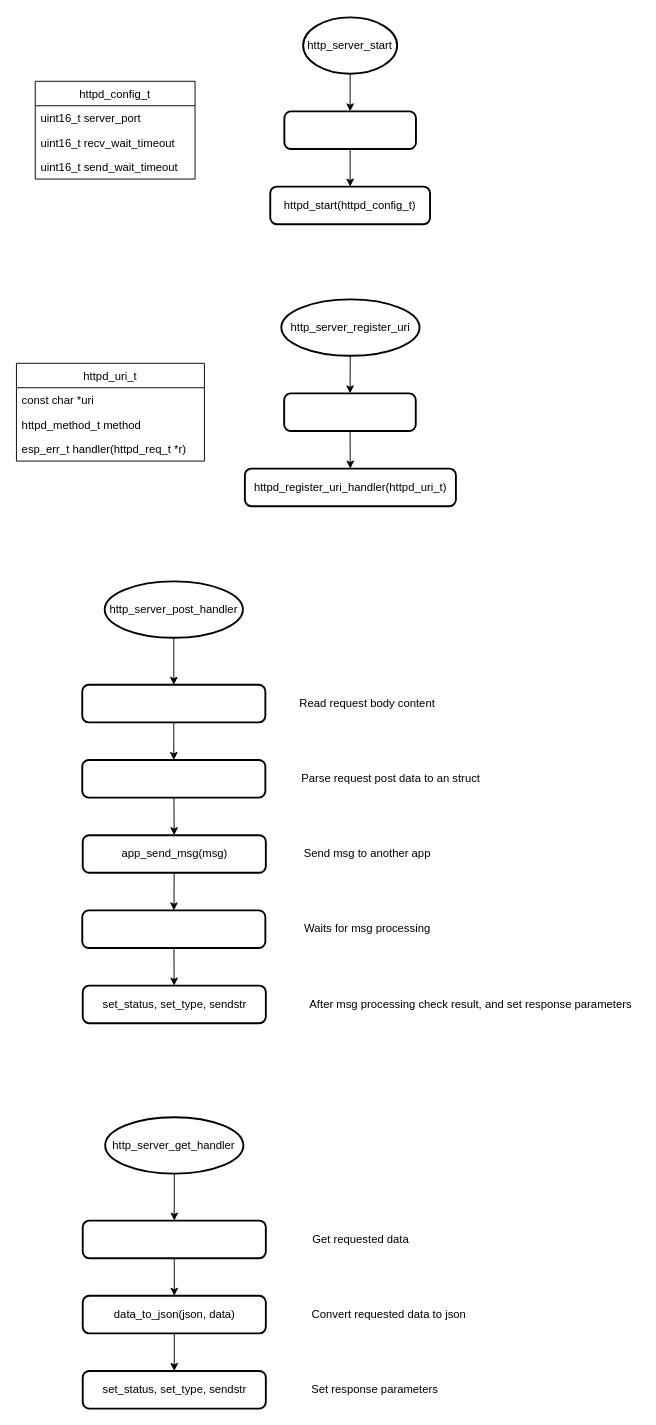
The diagram is 656 pixels wide and 1425 high, and some of its shapes have lost their labels. Here are the shapes that lost their labels. From the top down, the centre of each, then its label:
point (349, 129): init httpd_config_t
point (349, 411): init httpd_uri_t
point (173, 703): httpd_req_recv(req, content, len)
point (173, 778): data_from_json(data, json)
point (173, 928): app_wait_msg_processing
point (173, 1239): get_data
